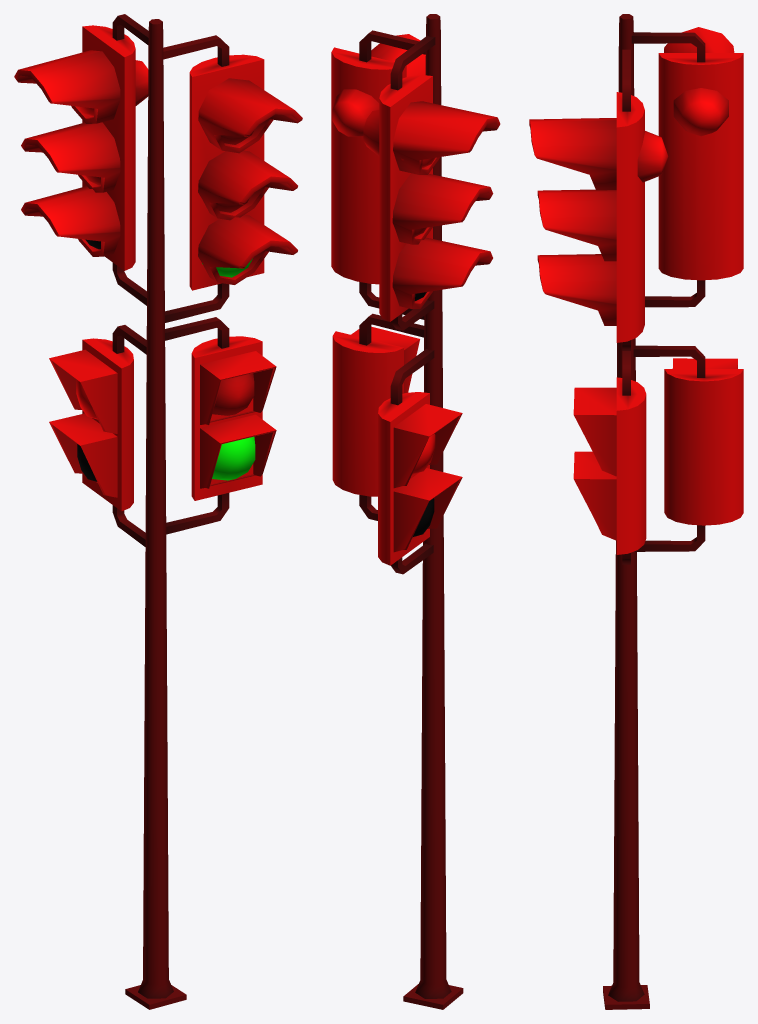
File: YellowTrafficLight004.glb
3 renders of one model, left to right at view 1: azimuth 30°, elevation 25°; view 2: azimuth 150°, elevation 25°; view 3: azimuth 270°, elevation 25°, orthographic.
Parts seen in each view (by area): view 1: YellowTrafficLight004; view 2: YellowTrafficLight004; view 3: YellowTrafficLight004.
Boxes of the visible parts, bbox=[...] form: YellowTrafficLight004: bbox=[14, 14, 302, 1009]; YellowTrafficLight004: bbox=[331, 14, 500, 1009]; YellowTrafficLight004: bbox=[529, 14, 743, 1009].
Size of the model in its own units: 4.96 by 23.84 by 4.71.
